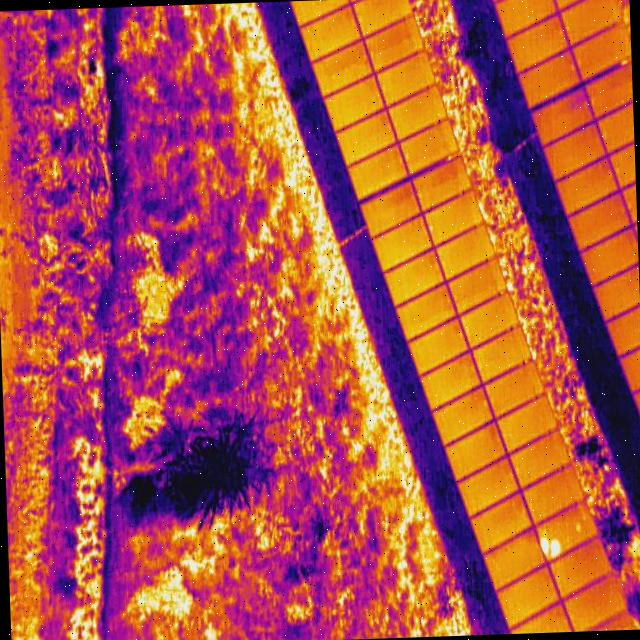Hotspot: (536, 536, 552, 554), (552, 541, 560, 558)
